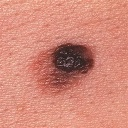Melanoma: (52, 43, 93, 75)
